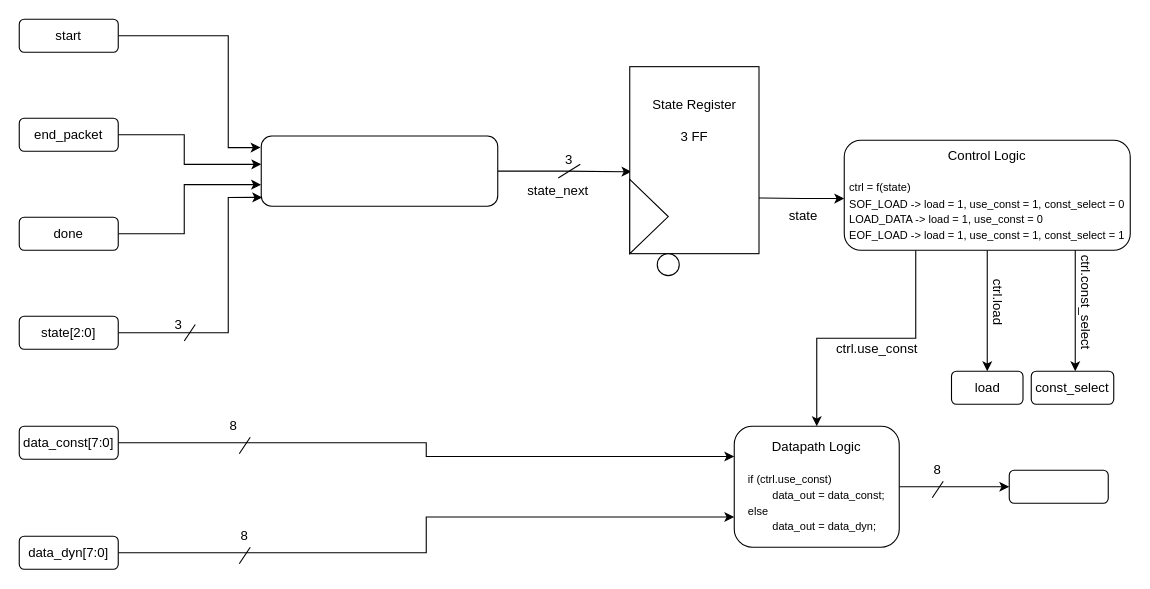
Image size: 1150x589. Some labels were removed from this diagram. The centre of each missing label's shape, as x and y in pixels:
"data_out[7:0]" belongs at pixel 1058 486.
"Next State Logic state_next = fsm(state, start, done, end_packet)" belongs at pixel 379 170.
